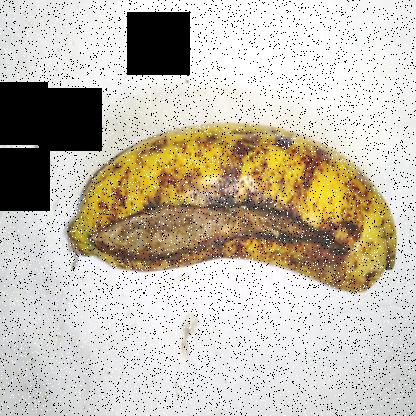rotten: (84, 162, 360, 293)
